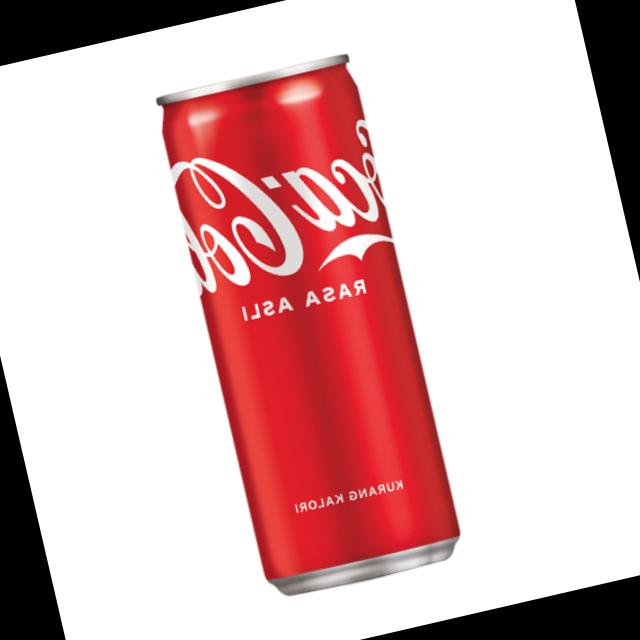cocacola: (147, 45, 480, 617)
